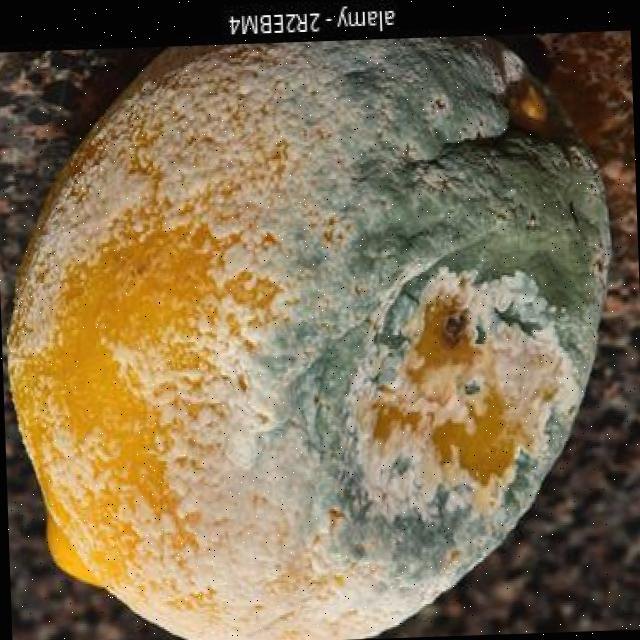Rotten: (0, 29, 621, 640)
